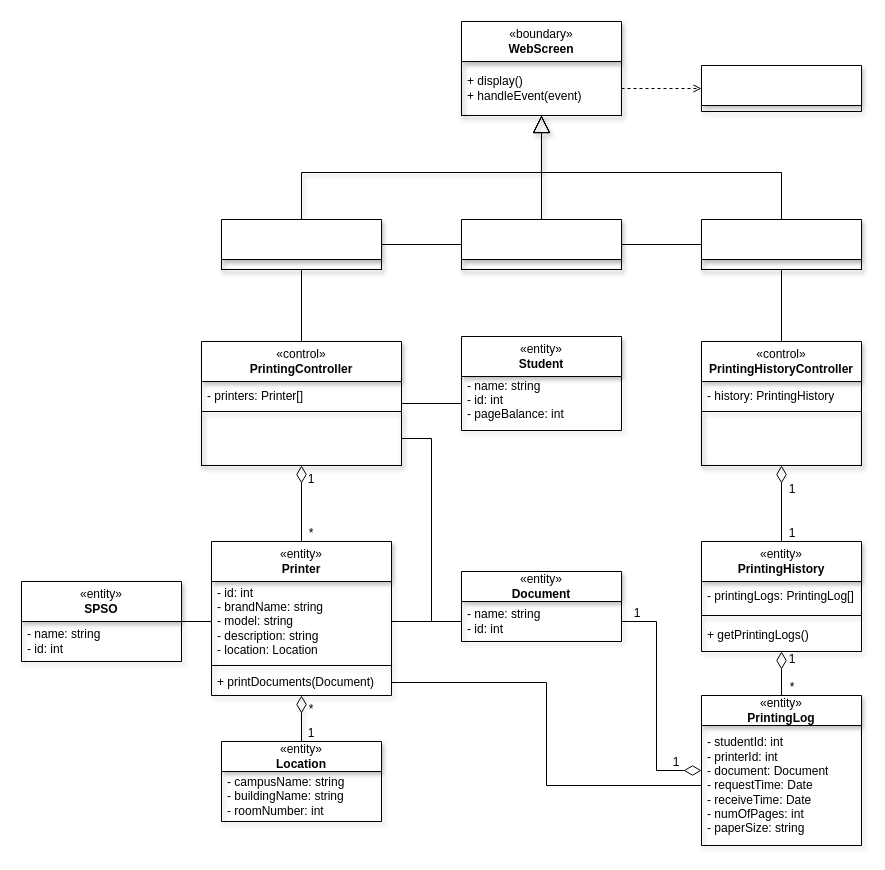
This 885x870 diagram has some shape labels left out. The shapes that lost their labels are listed below. From the top down, each one's centre as x and y in pixels, then its label:
At pixel 782 89: "«entity» Event".
At pixel 302 245: "«boundary» PrintingScreen".
At pixel 542 245: "«boundary» PrintManagementScreen".
At pixel 782 245: "«boundary» PrintingHistoryScreen".
At pixel 302 439: "+ validateFile(file) + checkStudent(student, document) + printDocument(document)".
At pixel 782 439: "+ sortByPageNo() + sortByDate() + summary()".
